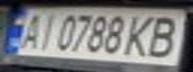0: (51, 11, 78, 52)
7: (72, 11, 93, 53)
8: (103, 11, 130, 56), (87, 11, 112, 55)
A: (12, 11, 45, 51)
B: (139, 12, 190, 60)
I: (30, 11, 60, 51)
K: (121, 12, 163, 59)
